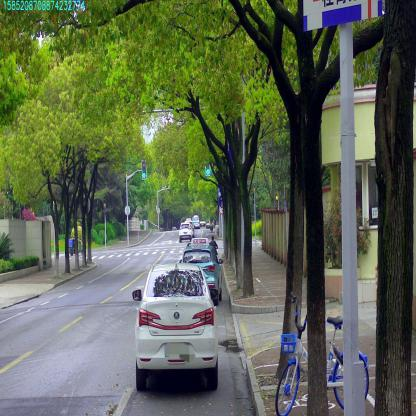traffic-light: (142, 160, 146, 179), (206, 161, 210, 176)
